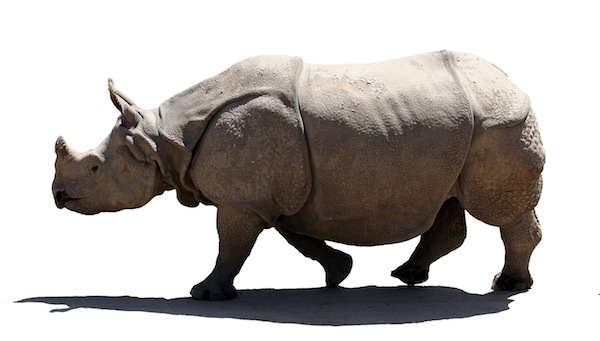rhinoceros: (45, 44, 542, 312)
